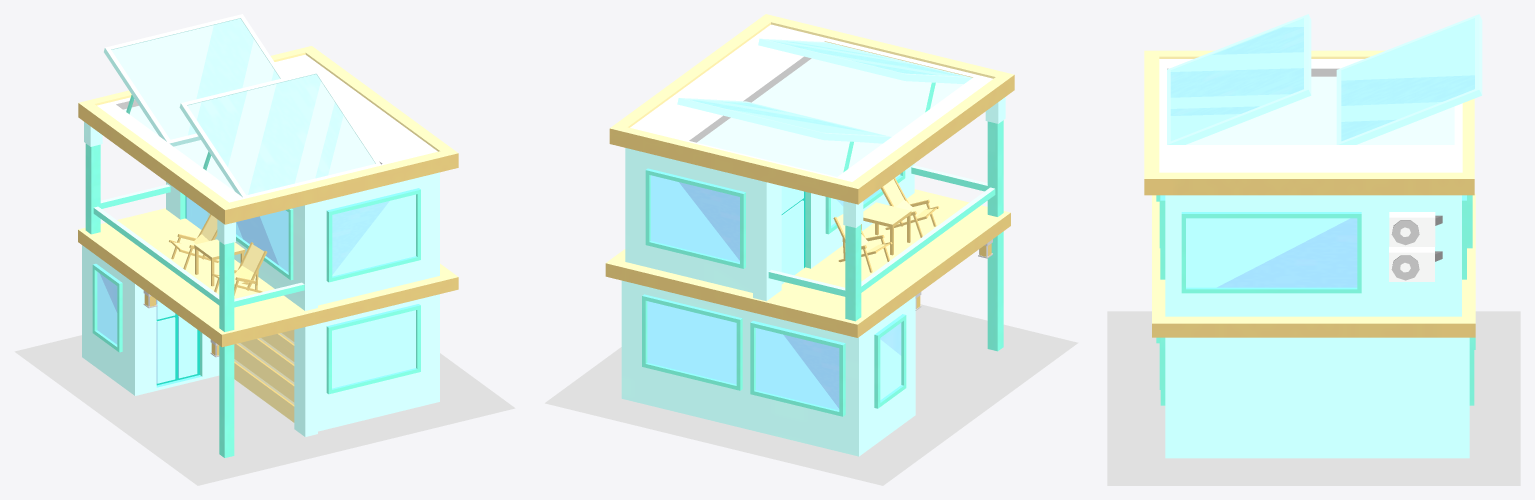
The picture shows the model from 3 angles, left to right: view 1: azimuth 30°, elevation 25°; view 2: azimuth 150°, elevation 25°; view 3: azimuth 270°, elevation 25°; orthographic projection. The views are drawn at different scales.
Visible parts, largest first — view 1: dwelling modern.004 (1), tile_for_home_1x1.006 (5); view 2: dwelling modern.004 (1), tile_for_home_1x1.006 (5); view 3: dwelling modern.004 (1), tile_for_home_1x1.006 (5).
Part boxes in pixels (<box>): dwelling modern.004 (1): <box>78,14,458,457</box>; tile_for_home_1x1.006 (5): <box>14,335,515,485</box>; dwelling modern.004 (1): <box>605,14,1014,456</box>; tile_for_home_1x1.006 (5): <box>545,304,1078,485</box>; dwelling modern.004 (1): <box>1144,14,1482,458</box>; tile_for_home_1x1.006 (5): <box>1107,311,1520,485</box>.
Bounding box in the file's own units: 8 × 7.28 × 8.
Materials: 1 (1 with a texture image).
